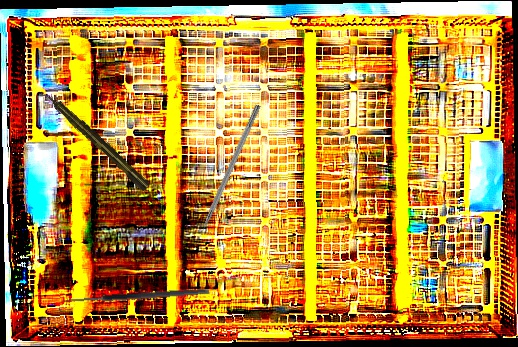Handpiece: (39, 86, 152, 194)
Hook Surgical: (191, 103, 262, 249), (58, 287, 210, 313)
